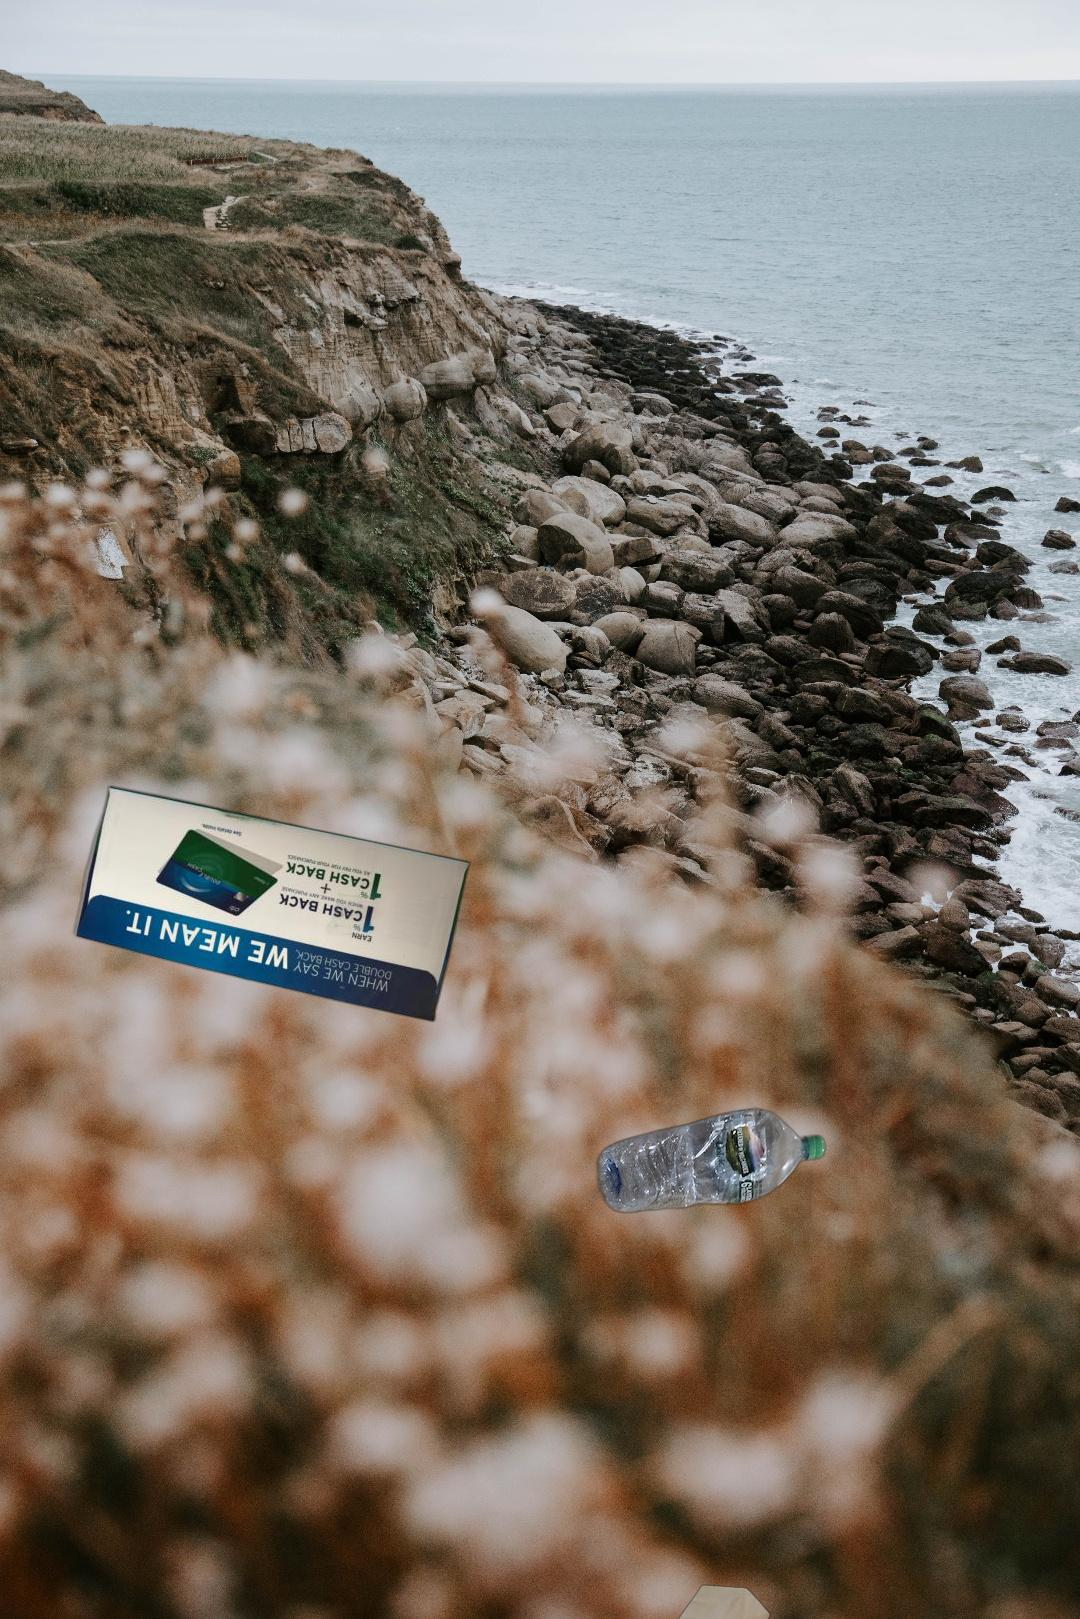paper: (69, 784, 474, 1023)
paper-bag: (648, 1583, 771, 1619)
plastic-bottles: (586, 1105, 830, 1216)
